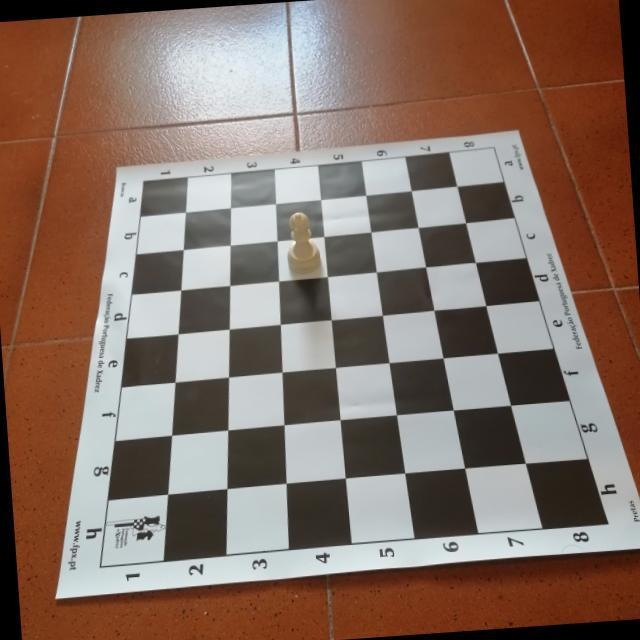white-bishop: (282, 209, 321, 275)
